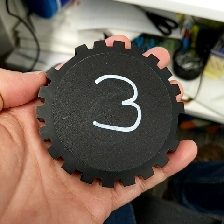gear: (34, 38, 186, 190)
missing: (45, 43, 89, 84), (168, 101, 184, 154)
